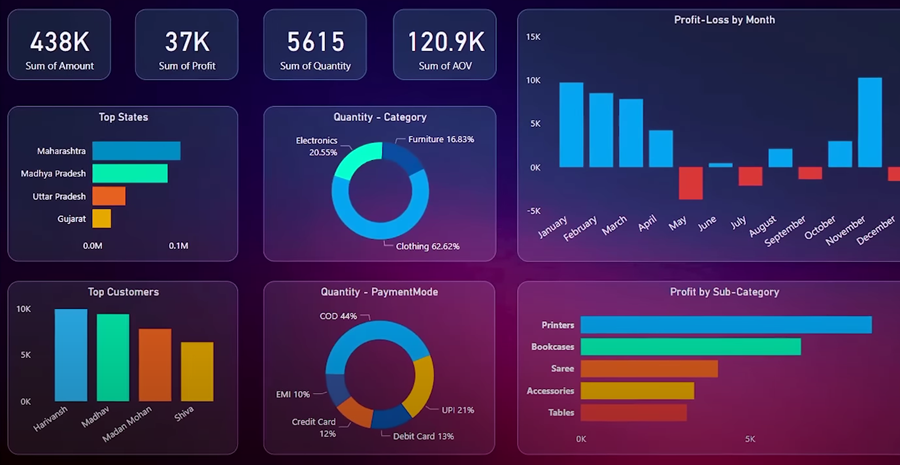

Layout of this report page (visuals, bound fields, positions):
{"tool":"powerbi","page":{"name":"Page 1","canvas":[1280,720],"ordinal":0},"visuals":[{"type":"textbox","box":[23.3,11,637.5,56.2],"z":0},{"type":"columnChart","title":"Profit by Month","fields":{"Category":["Orders.Order Date.Variation.Date Hierarchy.Month"],"Y":["Details.Profit"]},"box":[686.9,79.5,566.2,346.9],"z":1000},{"type":"barChart","fields":{"Category":["Details.Sub-Category"],"Y":["Details.Profit"]},"box":[686.9,455.2,566.2,241.3],"z":2000},{"type":"donutChart","fields":{"Category":["Details.Category"],"Y":["Details.Quantity"]},"box":[335.9,455.2,324.9,239.9],"z":3000},{"type":"donutChart","fields":{"Y":["Details.Quantity"],"Category":["Details.PaymentMode"]},"box":[335.9,193.3,324.9,233.1],"z":3001},{"type":"card","fields":{"Values":["Details.Amount"]},"box":[23.3,79.5,144,97.3],"z":3002},{"type":"card","fields":{"Values":["Details.Quantity"]},"box":[186.5,79.5,149.4,97.3],"z":3003},{"type":"card","fields":{"Values":["Details.Profit"]},"box":[352.4,79.5,146.7,97.3],"z":3004},{"type":"card","fields":{"Values":["Details.AOV"]},"box":[515.5,79.5,145.3,97.3],"z":3005},{"type":"barChart","fields":{"Category":["Orders.State"],"Y":["Details.Amount"]},"box":[23.3,194.7,287.9,231.7],"z":3006},{"type":"columnChart","fields":{"Category":["Orders.CustomerName"],"Y":["Details.Amount"]},"box":[23.3,455.2,287.9,239.9],"z":3007},{"type":"slicer","fields":{"Values":["Orders.Order Date.Variation.Date Hierarchy.Quarter"]},"box":[686.9,11,366.1,56.2],"z":3008},{"type":"slicer","fields":{"Values":["Orders.State"]},"box":[1077.6,11,175.5,56.2],"z":3009}]}

Visuals, with their boxes on the page's 1280x720 design canvas (x1, y1, x2, y2). These are canvas units, not pixel positions in the 900x465 screenshot, which may show the page scaled, cropped or inside an application window:
textbox: region(23, 11, 661, 67)
"Profit by Month" columnChart: region(687, 80, 1253, 426)
barChart - Details.Sub-Category x Details.Profit: region(687, 455, 1253, 696)
donutChart - Details.Category x Details.Quantity: region(336, 455, 661, 695)
donutChart - Details.Quantity x Details.PaymentMode: region(336, 193, 661, 426)
card - Details.Amount: region(23, 80, 167, 177)
card - Details.Quantity: region(186, 80, 336, 177)
card - Details.Profit: region(352, 80, 499, 177)
card - Details.AOV: region(516, 80, 661, 177)
barChart - Orders.State x Details.Amount: region(23, 195, 311, 426)
columnChart - Orders.CustomerName x Details.Amount: region(23, 455, 311, 695)
slicer - Orders.Order Date.Variation.Date Hierarchy.Quarter: region(687, 11, 1053, 67)
slicer - Orders.State: region(1078, 11, 1253, 67)
